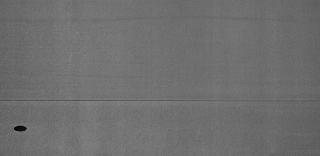punching hole: (13, 124, 29, 134)
welding line: (1, 97, 318, 105)
